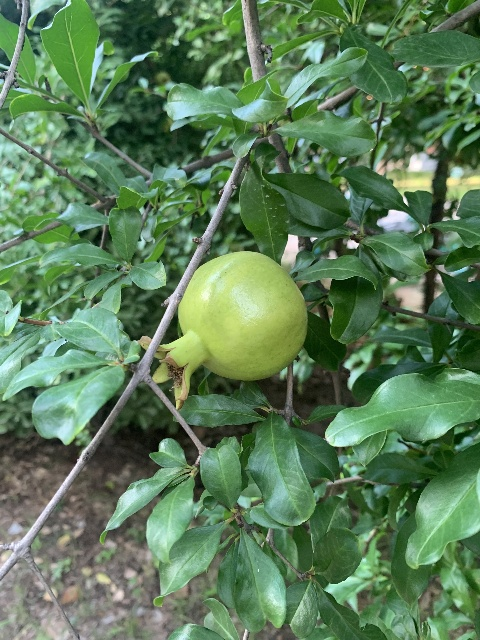mid-growth: (137, 250, 307, 409)
